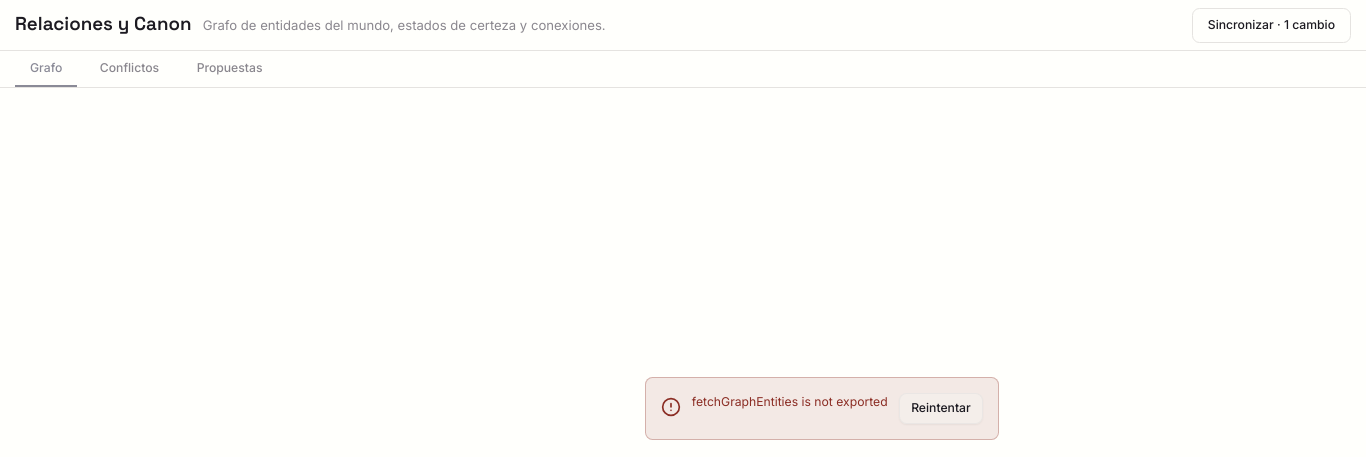
it: RelacionesCanon › sweeps one candidate on demand and reports the result
Step 1. Click the tab "Propuestas" → (230, 69), box [182, 51, 278, 87]
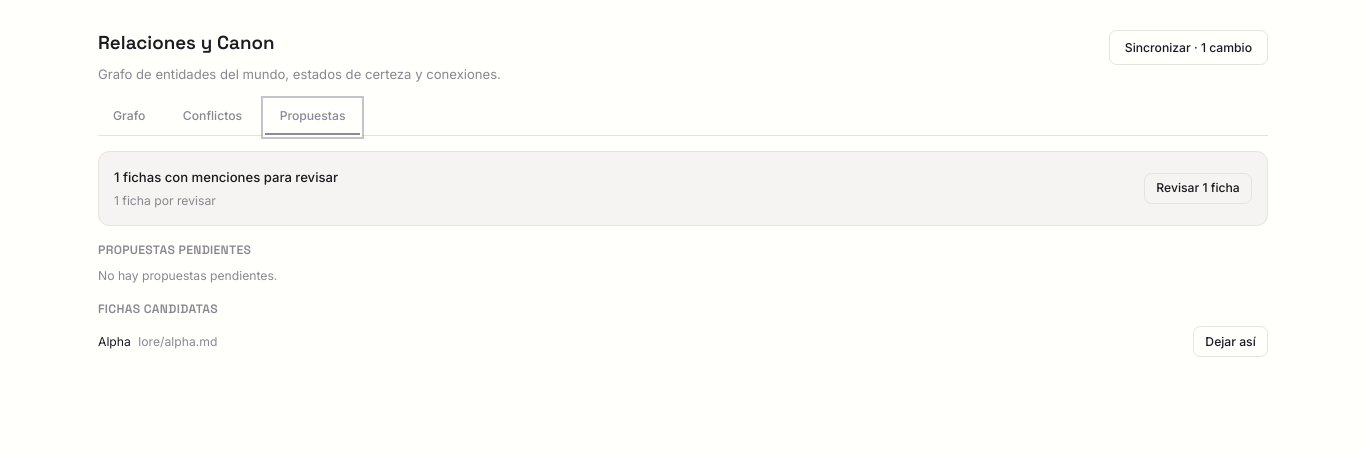
Step 2. Click the button with test id "sweep-button" → (1198, 189), box [1144, 173, 1252, 204]
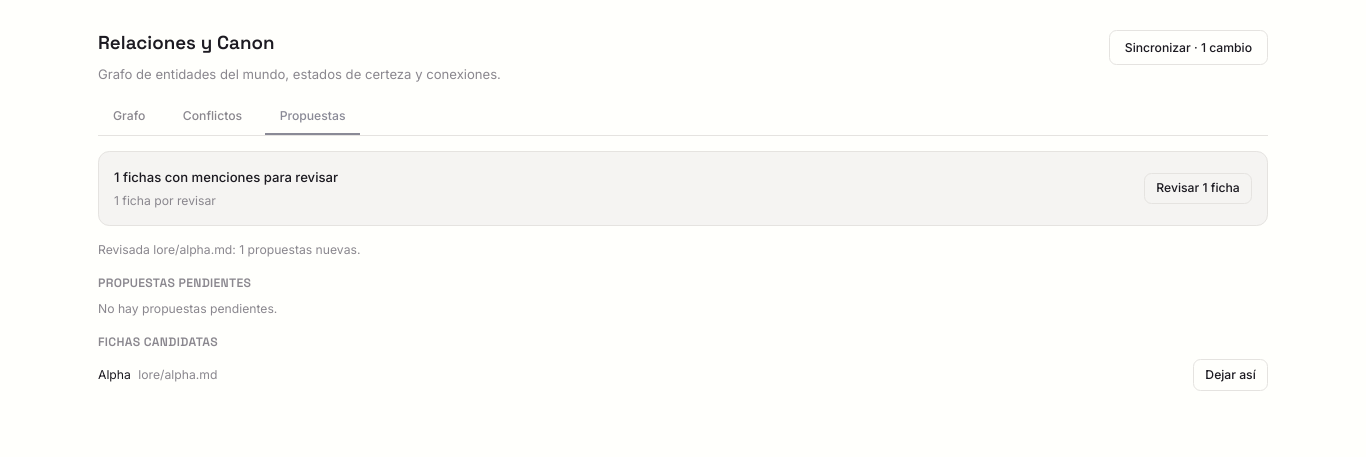
Result: the text with test id "sweep-notice" reads "Revisada lore/alpha.md: 1 propuestas nuevas." at [98, 242, 360, 257]
